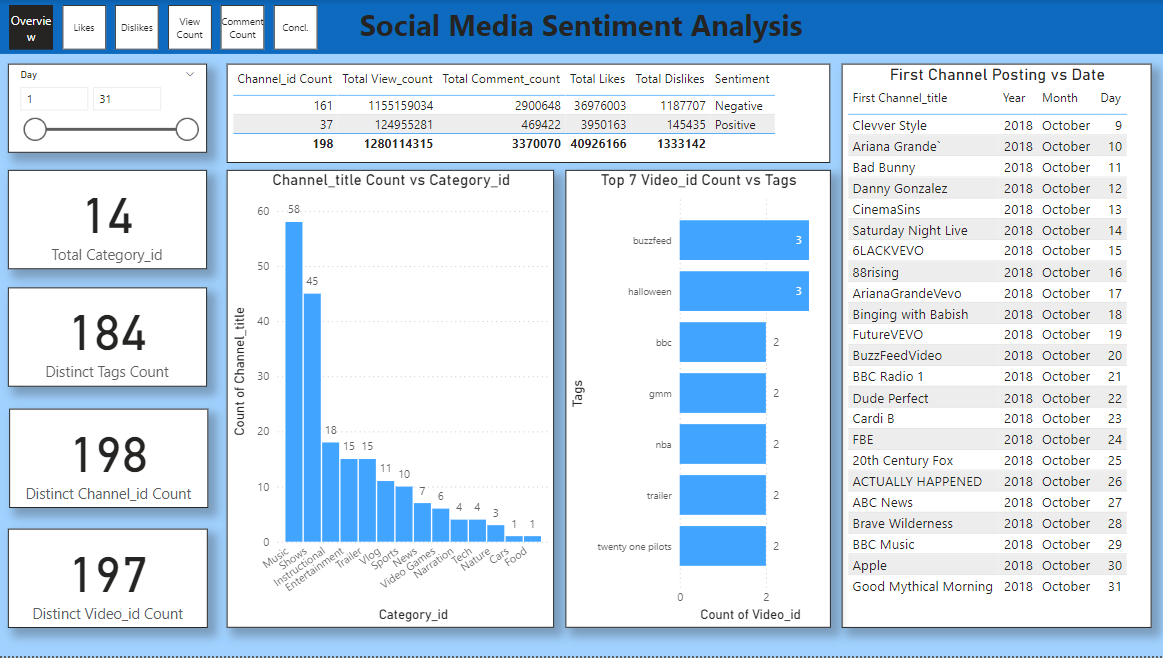

The page's visual inventory and layout, read from the dashboard file:
{"tool":"powerbi","page":{"name":"Overview","canvas":[1280,720],"ordinal":0},"visuals":[{"type":"shape","box":[0,0,1280.3,59],"z":0},{"type":"textbox","box":[0,0,1280.3,59],"z":1000},{"type":"tableEx","fields":{"Values":["gold_df (2).Channel_id","gold_df (2).View_count","gold_df (2).Comment_count","gold_df (2).Likes","gold_df (2).Dislikes","gold_df (2).Sentiment"]},"box":[251.1,70,662.8,108.4],"z":2000},{"type":"slicer","fields":{"Values":["gold_df (2).Published_at.Variation.Date Hierarchy.Day"]},"box":[11,70,218.2,97.4],"z":3000},{"type":"card","fields":{"Values":["gold_df (2).Video_id"]},"box":[11,580.4,219.6,108.4],"z":4000},{"type":"card","fields":{"Values":["gold_df (2).Category_id"]},"box":[11,186.6,218.2,108.4],"z":5000},{"type":"card","fields":{"Values":["gold_df (2).Channel_id"]},"box":[12.3,448.7,218.2,108.4],"z":6000},{"type":"card","fields":{"Values":["gold_df (2).Tags"]},"box":[11,315.6,218.2,108.4],"z":7000},{"type":"tableEx","title":"First Channel Posting vs Date","fields":{"Values":["gold_df (2).Channel_title","gold_df (2).Published_at.Variation.Date Hierarchy.Year","gold_df (2).Published_at.Variation.Date Hierarchy.Month","gold_df (2).Published_at.Variation.Date Hierarchy.Day"]},"box":[926.2,70,340.3,618.9],"z":8000},{"type":"columnChart","title":"Channel_title Count vs Category_id","fields":{"Y":["gold_df (2).Channel_title"],"Category":["gold_df (2).Category_id"]},"box":[251.1,186.6,359.5,502.2],"z":9000},{"type":"barChart","title":"Top 7 Video_id Count vs Tags","fields":{"Y":["gold_df (2).Video_id"],"Category":["gold_df (2).Tags"]},"box":[623,186.6,290.9,502.2],"z":10000},{"type":"pageNavigator","box":[12.3,5.5,341,49.4],"z":11000}]}

Visuals, with their boxes on the page's 1280x720 design canvas (x1, y1, x2, y2). These are canvas units, not pixel positions in the 1163x658 screenshot, which may show the page scaled, cropped or inside an application window:
shape: {"left": 0, "top": 0, "right": 1280, "bottom": 59}
textbox: {"left": 0, "top": 0, "right": 1280, "bottom": 59}
tableEx - gold_df (2).Channel_id x gold_df (2).View_count: {"left": 251, "top": 70, "right": 914, "bottom": 178}
slicer - gold_df (2).Published_at.Variation.Date Hierarchy.Day: {"left": 11, "top": 70, "right": 229, "bottom": 167}
card - gold_df (2).Video_id: {"left": 11, "top": 580, "right": 231, "bottom": 689}
card - gold_df (2).Category_id: {"left": 11, "top": 187, "right": 229, "bottom": 295}
card - gold_df (2).Channel_id: {"left": 12, "top": 449, "right": 230, "bottom": 557}
card - gold_df (2).Tags: {"left": 11, "top": 316, "right": 229, "bottom": 424}
"First Channel Posting vs Date" tableEx: {"left": 926, "top": 70, "right": 1266, "bottom": 689}
"Channel_title Count vs Category_id" columnChart: {"left": 251, "top": 187, "right": 611, "bottom": 689}
"Top 7 Video_id Count vs Tags" barChart: {"left": 623, "top": 187, "right": 914, "bottom": 689}
pageNavigator: {"left": 12, "top": 6, "right": 353, "bottom": 55}
